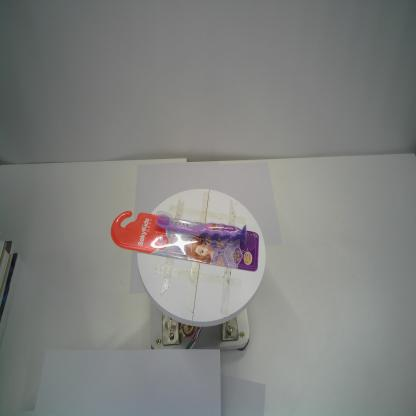Personal Hygiene: (110, 210, 259, 272)
